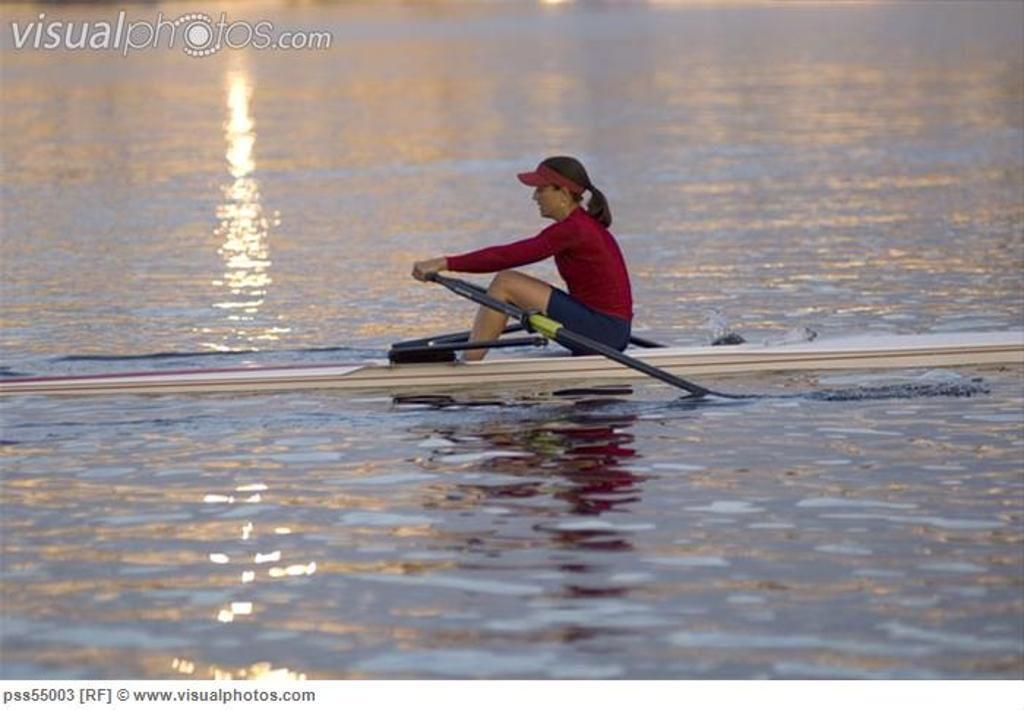face: (533, 178, 562, 217)
